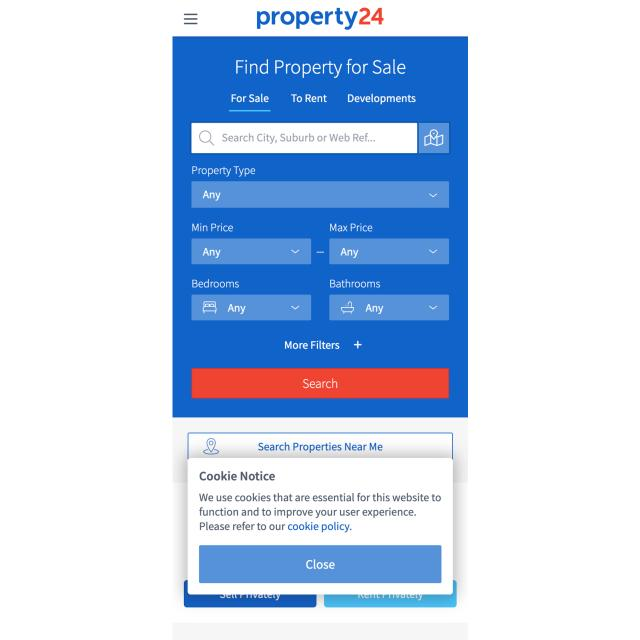input: (192, 122, 418, 154)
logo: (252, 3, 386, 31)
navigation: (181, 8, 202, 29)
